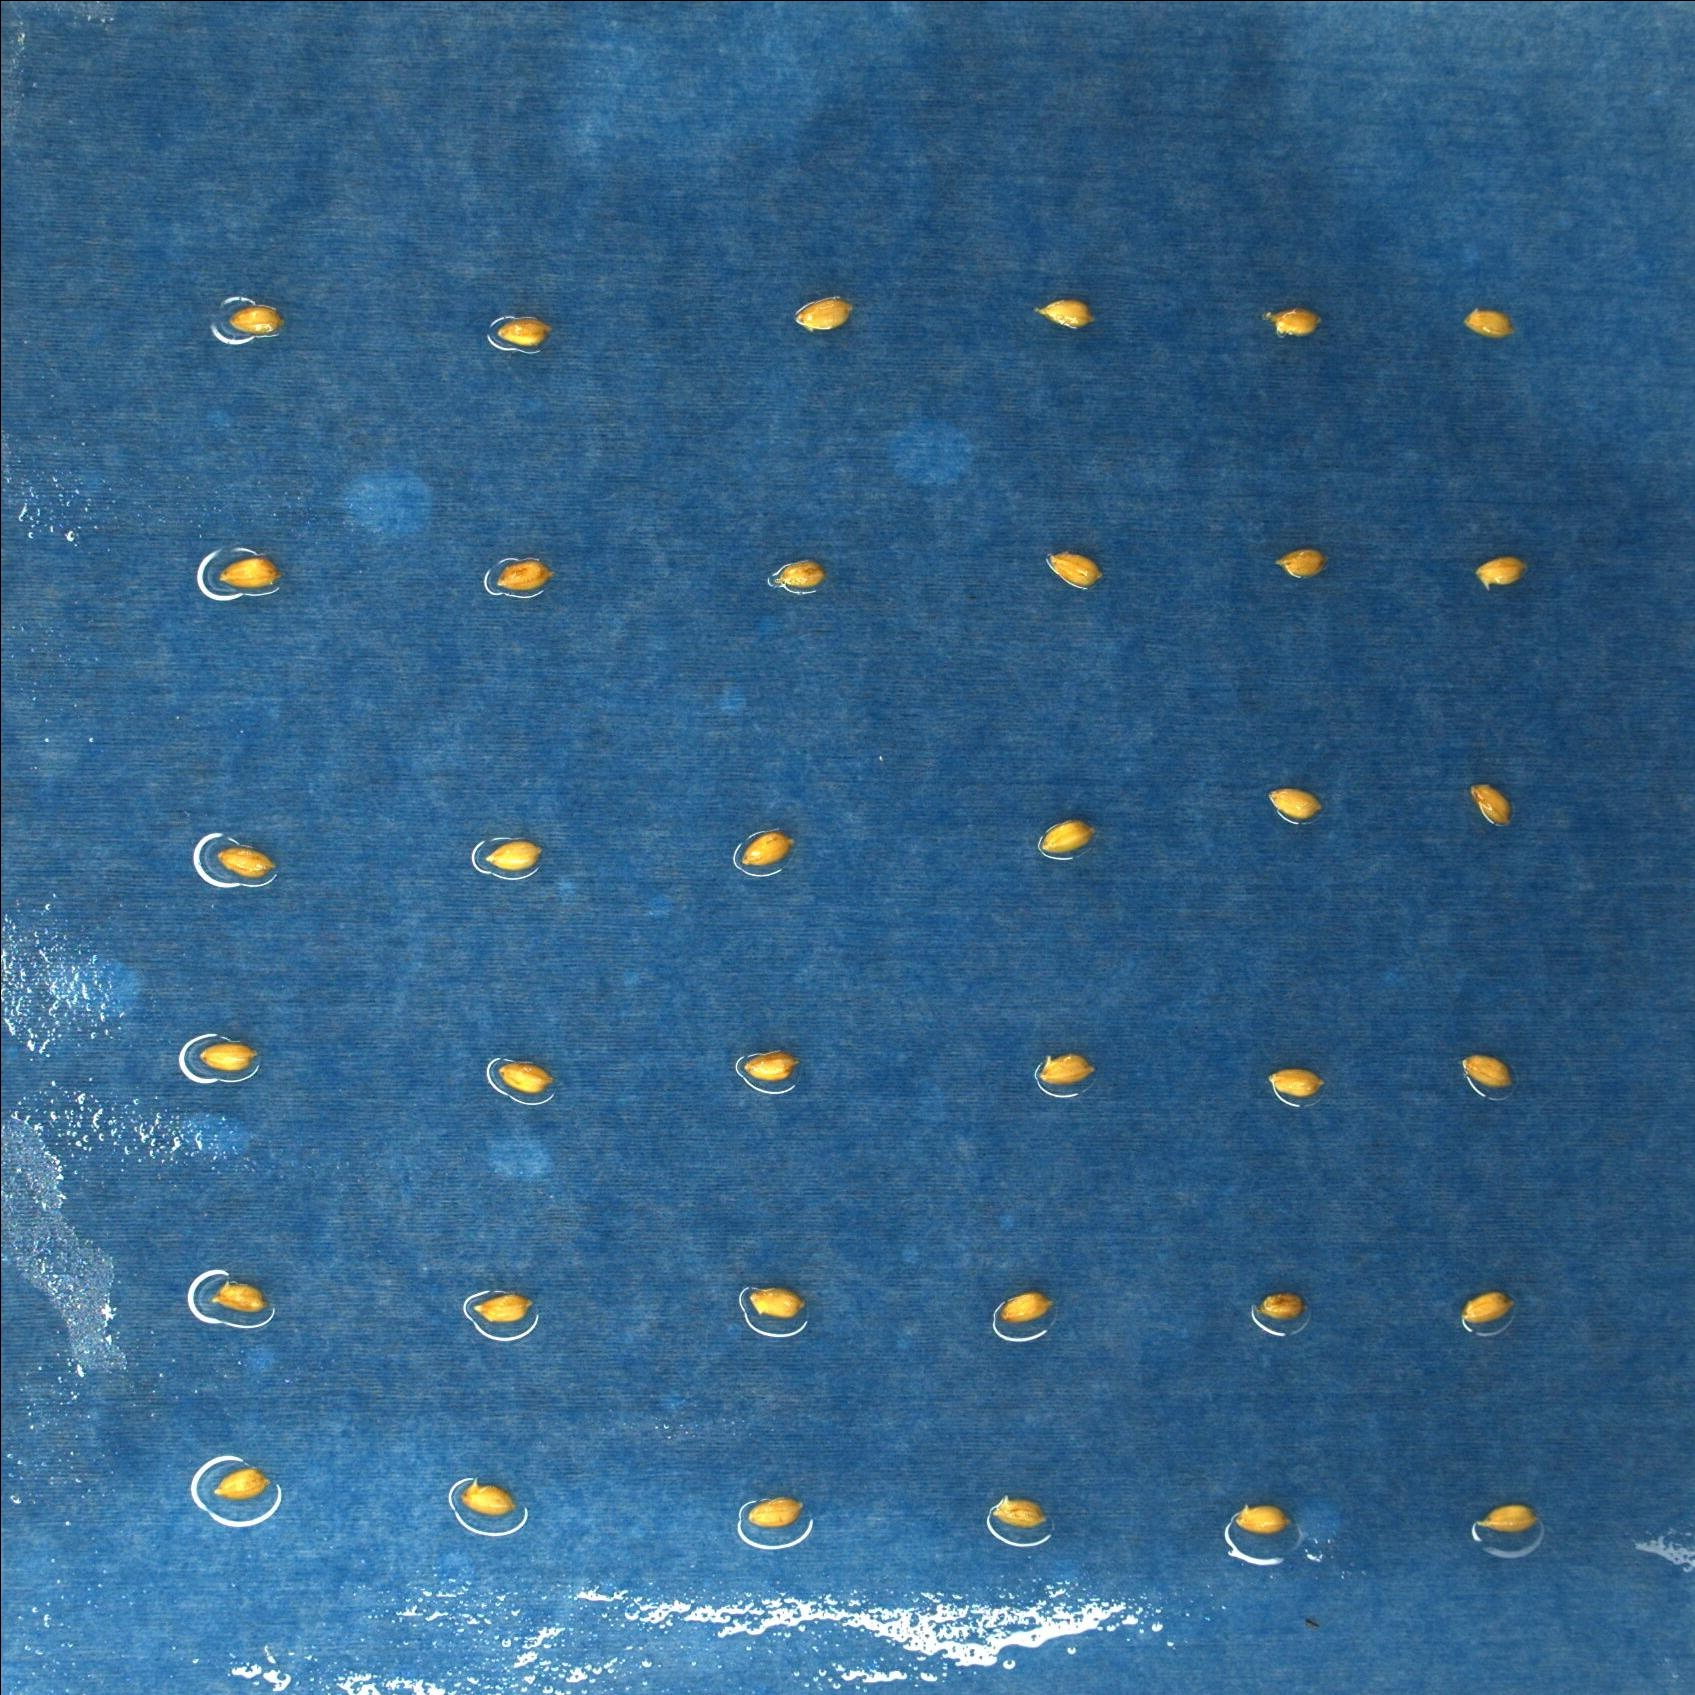not sprout: (1024, 295, 1104, 331), (792, 292, 857, 331), (459, 1478, 518, 1520), (1468, 1503, 1548, 1534), (1263, 784, 1324, 824), (989, 1493, 1051, 1532), (1468, 779, 1515, 830), (736, 830, 799, 868), (744, 1496, 812, 1530), (1458, 1052, 1520, 1090), (492, 312, 556, 348), (219, 553, 282, 588), (1043, 551, 1104, 588), (1035, 1051, 1101, 1085), (211, 1468, 273, 1504), (1229, 1499, 1291, 1535), (768, 557, 829, 593), (495, 1059, 556, 1094), (740, 1048, 801, 1083), (470, 1291, 532, 1326), (494, 556, 553, 591), (1037, 820, 1096, 855), (208, 1279, 269, 1313), (1459, 304, 1516, 340), (1267, 1066, 1326, 1101), (216, 844, 276, 877), (1245, 1291, 1315, 1319), (1263, 304, 1322, 337), (748, 1284, 807, 1316), (1276, 548, 1329, 584), (199, 1040, 259, 1069), (481, 840, 545, 868), (1461, 1293, 1516, 1324), (1475, 556, 1527, 588), (1000, 1293, 1059, 1321), (228, 304, 281, 334)
